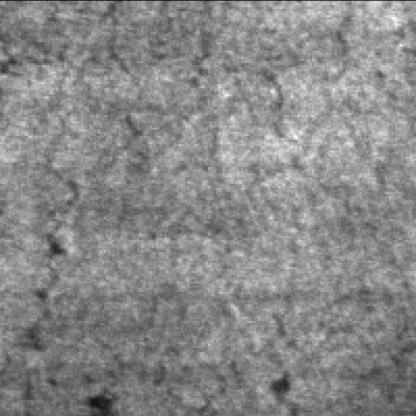crazing: (229, 3, 385, 193), (27, 83, 129, 350), (6, 8, 310, 93)
